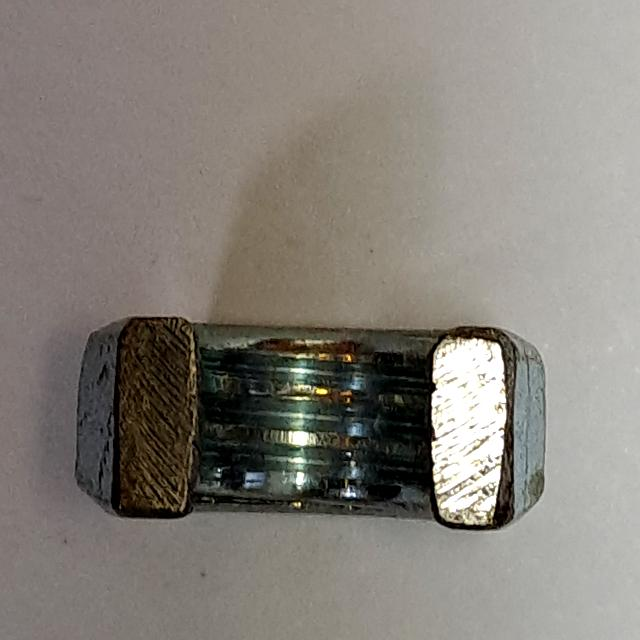Side-Fracture: (66, 290, 564, 550)
